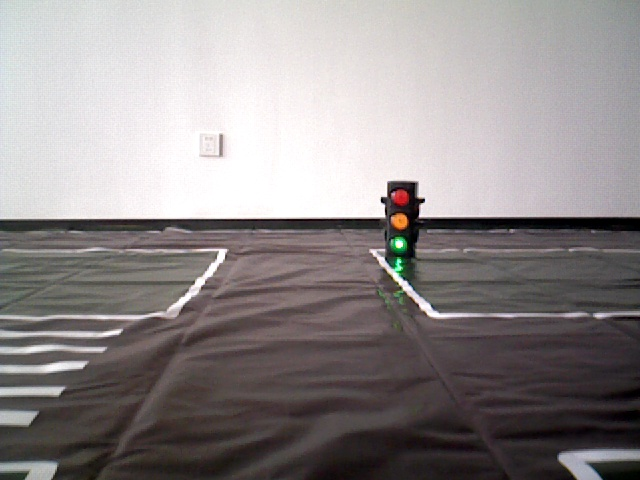green: (388, 183, 416, 253)
